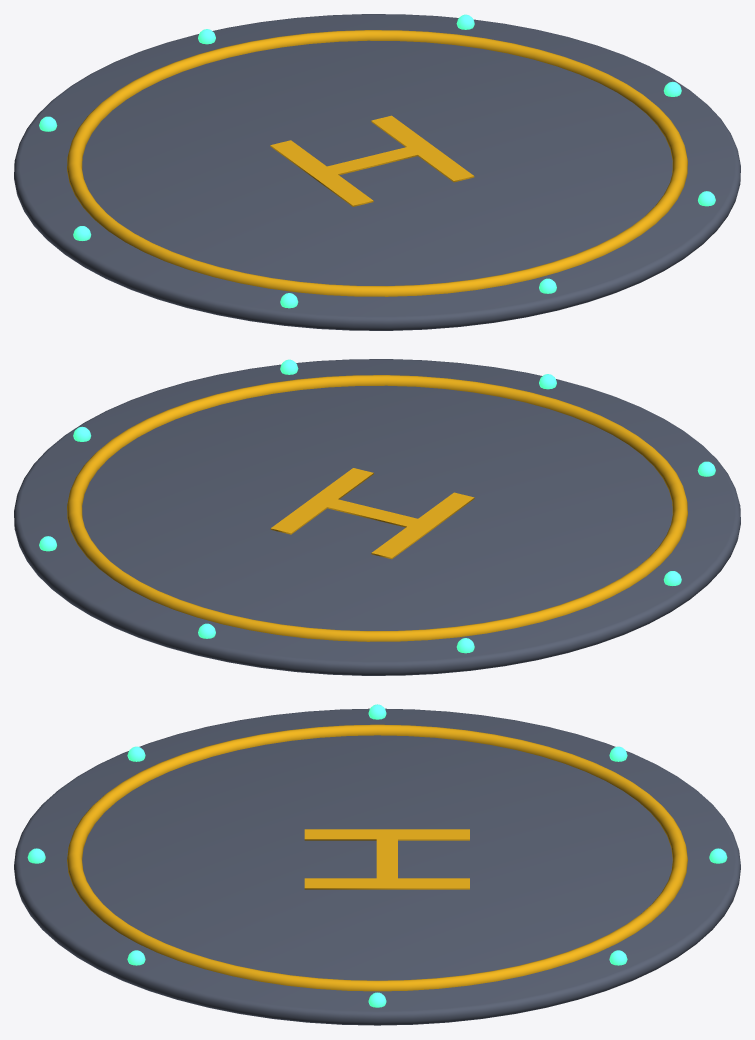
The model's file is Moon_LandingPad.glb.
The picture shows the model from 3 angles, top to bottom: view 1: azimuth 30°, elevation 25°; view 2: azimuth 150°, elevation 25°; view 3: azimuth 270°, elevation 25°; orthographic projection.
Parts seen in each view (by area): view 1: Moon_LandingPad.Pad, Moon_LandingPad.Ring, Moon_LandingPad.Label; view 2: Moon_LandingPad.Pad, Moon_LandingPad.Ring, Moon_LandingPad.Label; view 3: Moon_LandingPad.Pad, Moon_LandingPad.Ring, Moon_LandingPad.Label.
Boxes of the visible parts, <box> form: Moon_LandingPad.Pad: <box>14,14,740,330</box>; Moon_LandingPad.Ring: <box>67,30,687,296</box>; Moon_LandingPad.Label: <box>270,115,474,206</box>; Moon_LandingPad.Pad: <box>14,359,740,675</box>; Moon_LandingPad.Ring: <box>67,375,687,641</box>; Moon_LandingPad.Label: <box>270,468,474,559</box>; Moon_LandingPad.Pad: <box>14,708,740,1025</box>; Moon_LandingPad.Ring: <box>67,724,687,991</box>; Moon_LandingPad.Label: <box>304,829,469,889</box>.
Size of the model in its own units: 4.8 by 0.18 by 4.8.
